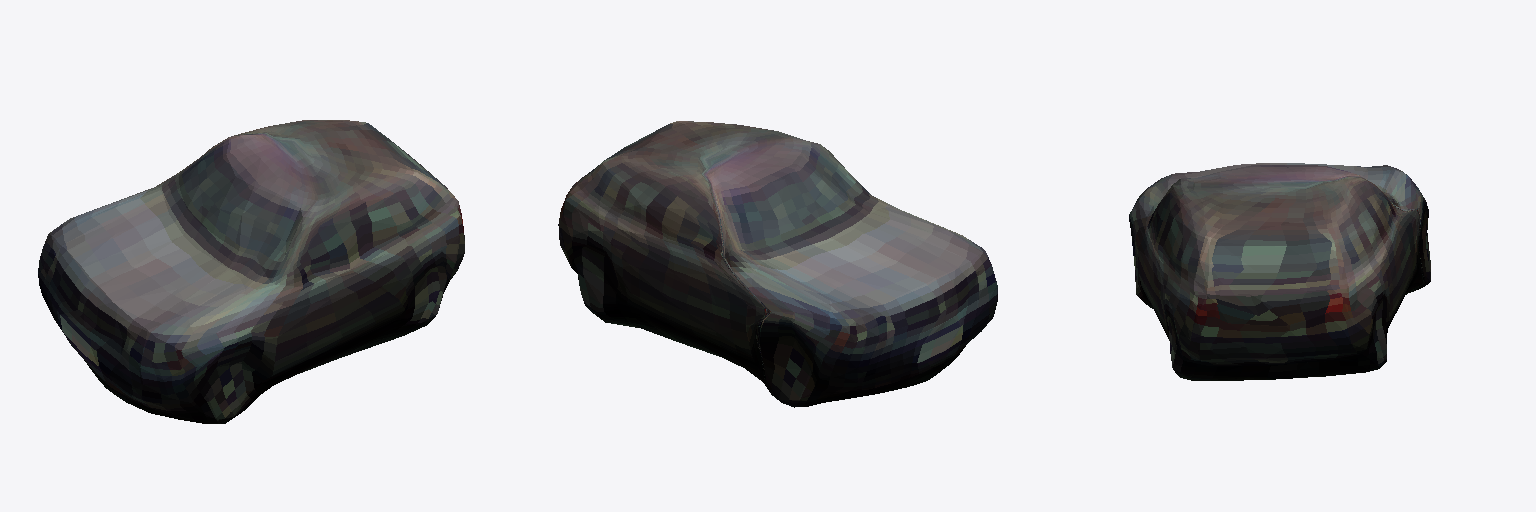
3 renders of one model, left to right at view 1: azimuth 30°, elevation 25°; view 2: azimuth 150°, elevation 25°; view 3: azimuth 270°, elevation 25°, orthographic.
Bounding box in the file's own units: 1 × 0.5082 × 0.7322.
Materials: 1 (1 with a texture image).